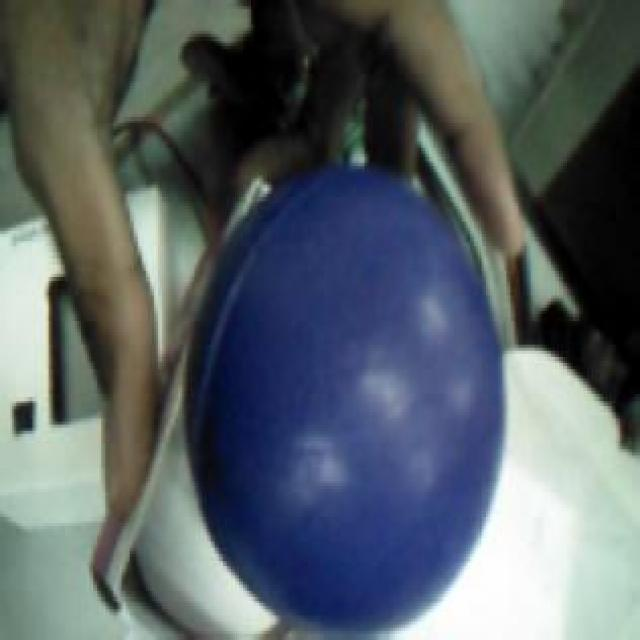BallPurple: (182, 162, 505, 640)
